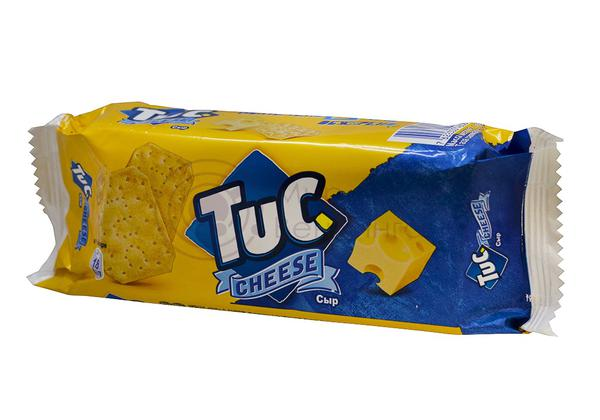crackers tuc: (63, 115, 524, 338)
